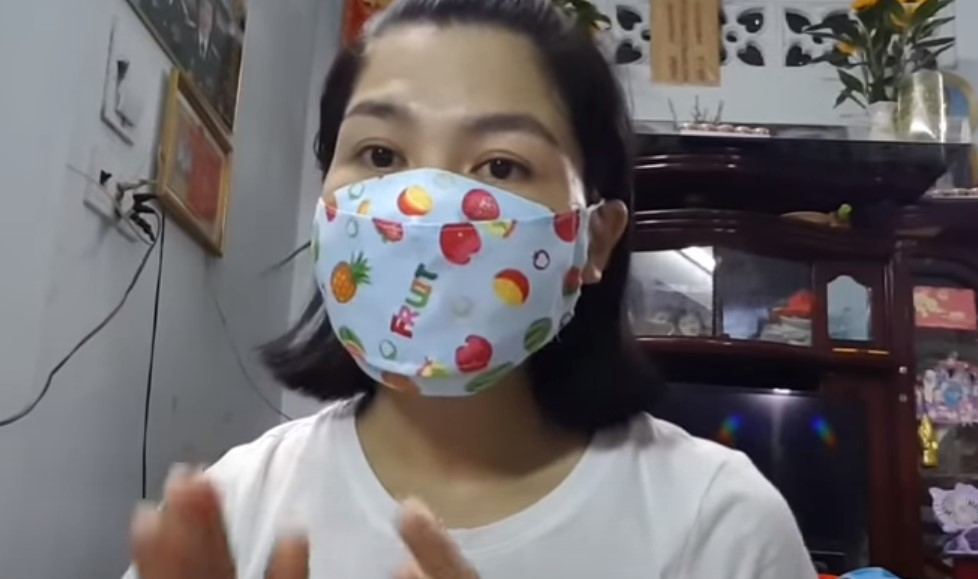face_with_mask: (309, 6, 630, 403)
